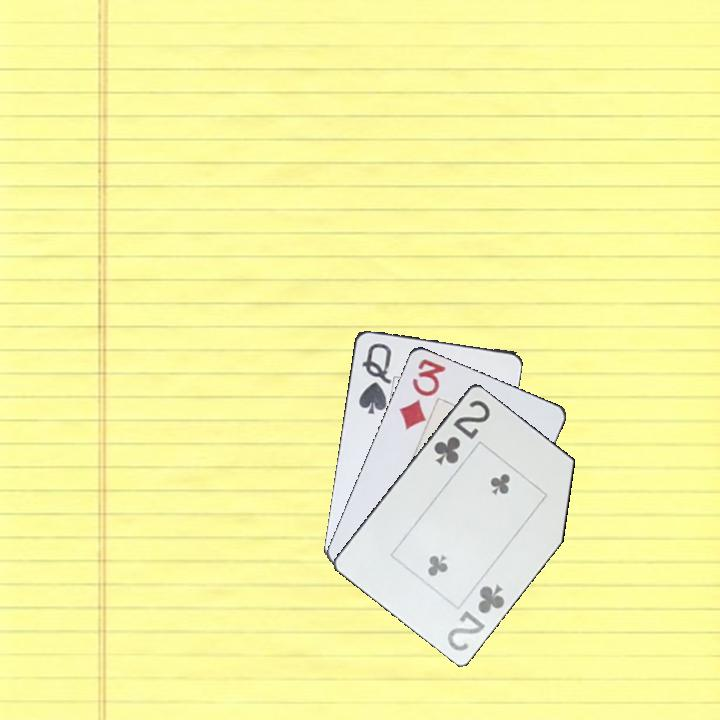2c: (443, 580, 508, 654), (430, 396, 493, 468)
3d: (395, 355, 449, 432)
Qs: (355, 339, 394, 417)
